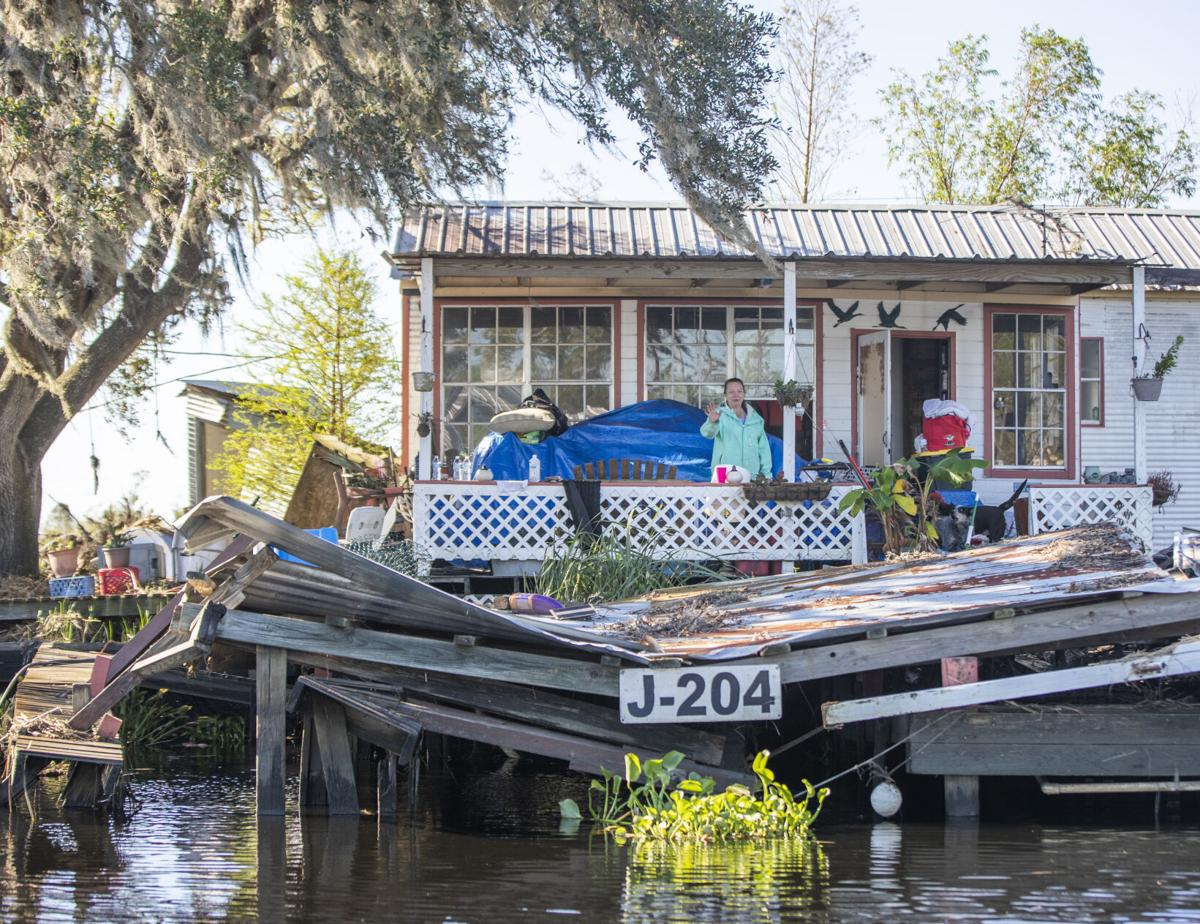minor: (373, 192, 1200, 583)
